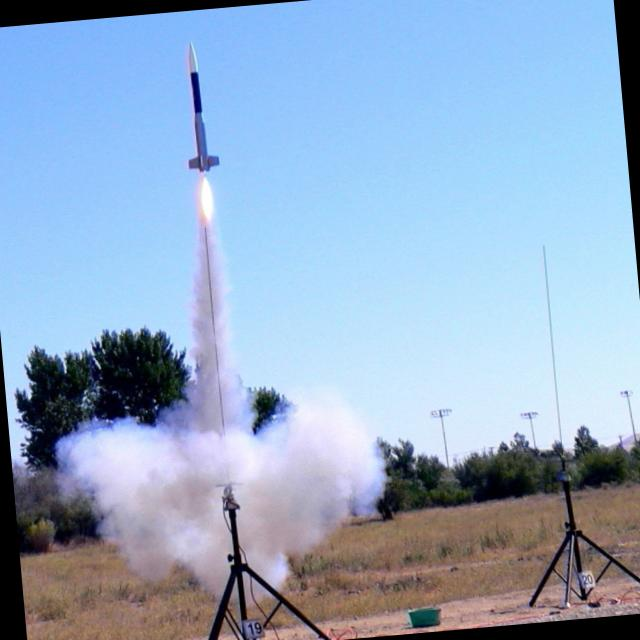rocket: (175, 38, 230, 324)
